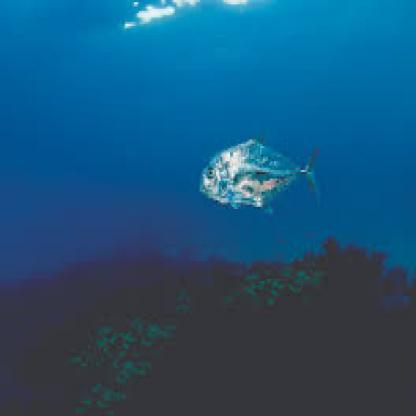Carangidae -Jacks-: (195, 123, 327, 221)
